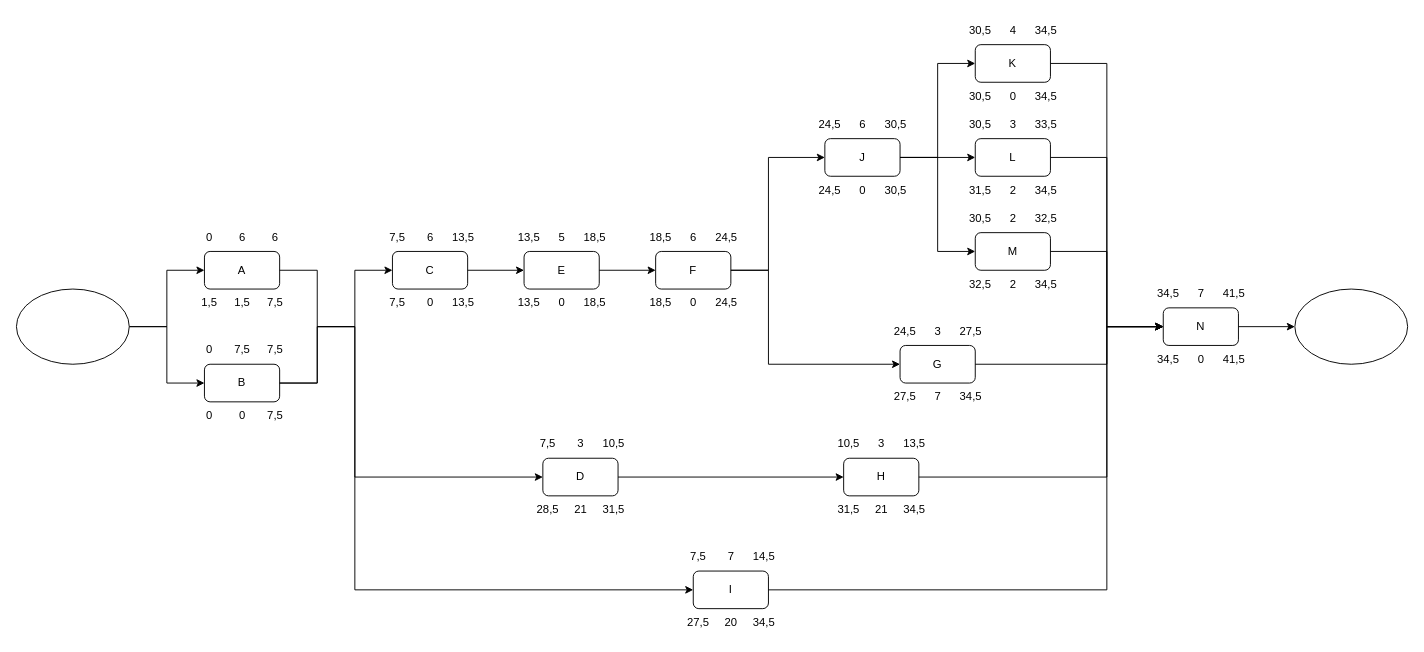
Image size: 1424x652. Some labels were removed from this diagram. Each missing label, with the box of its shape:
END: (1294, 288, 1408, 364)
START: (16, 288, 129, 364)
